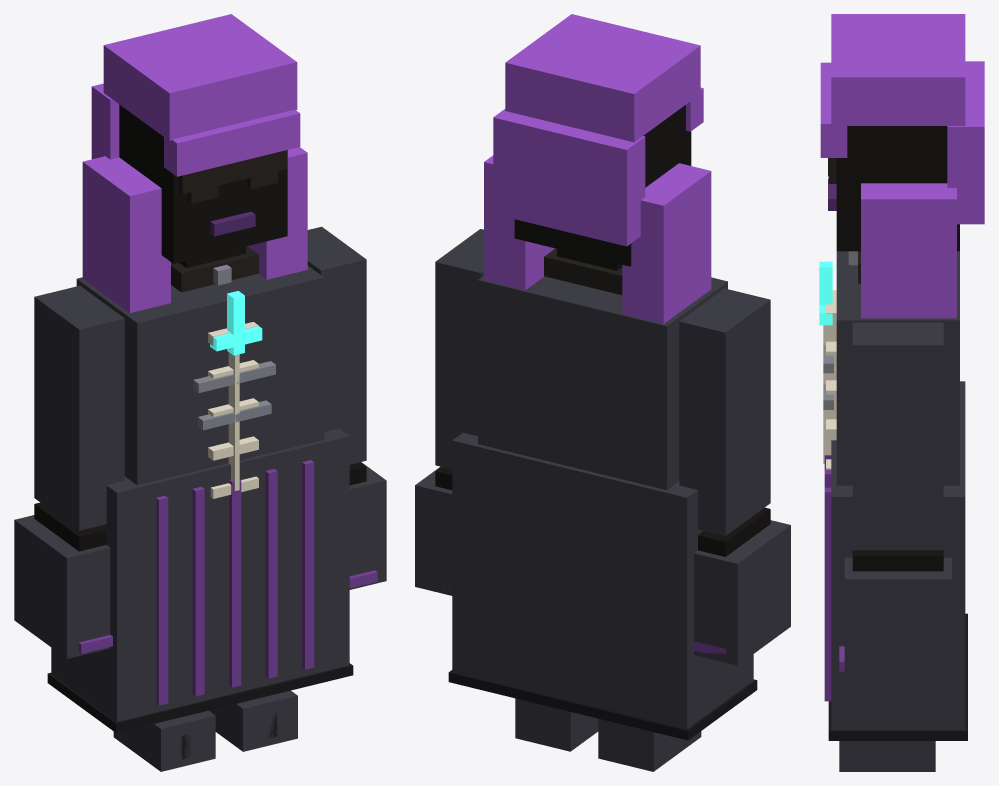
Rendered from archetypes__goth.glb.
The picture shows the model from 3 angles, left to right: view 1: azimuth 30°, elevation 25°; view 2: azimuth 150°, elevation 25°; view 3: azimuth 270°, elevation 25°; orthographic projection.
Parts seen in each view (by area): view 1: archetypes__goth, rig_armL, rig_armR, rig_legL, rig_legR; view 2: archetypes__goth, rig_armL, rig_armR, rig_legL, rig_legR; view 3: archetypes__goth, rig_armR, rig_legR.
Part boxes in pixels (left/top/right/bottom): archetypes__goth: left=47, top=14, right=353, bottom=732; rig_armL: left=14, top=285, right=124, bottom=658; rig_armR: left=307, top=226, right=386, bottom=589; rig_legL: left=113, top=710, right=215, bottom=771; rig_legR: left=209, top=690, right=297, bottom=751; archetypes__goth: left=448, top=14, right=757, bottom=740; rig_armL: left=679, top=288, right=790, bottom=665; rig_armR: left=415, top=229, right=483, bottom=595; rig_legL: left=598, top=718, right=701, bottom=771; rig_legR: left=515, top=698, right=598, bottom=751; archetypes__goth: left=819, top=14, right=984, bottom=740; rig_armR: left=839, top=322, right=951, bottom=681; rig_legR: left=839, top=741, right=935, bottom=771.
Size of the model in its own units: 1.4 by 2.85 by 0.618.
